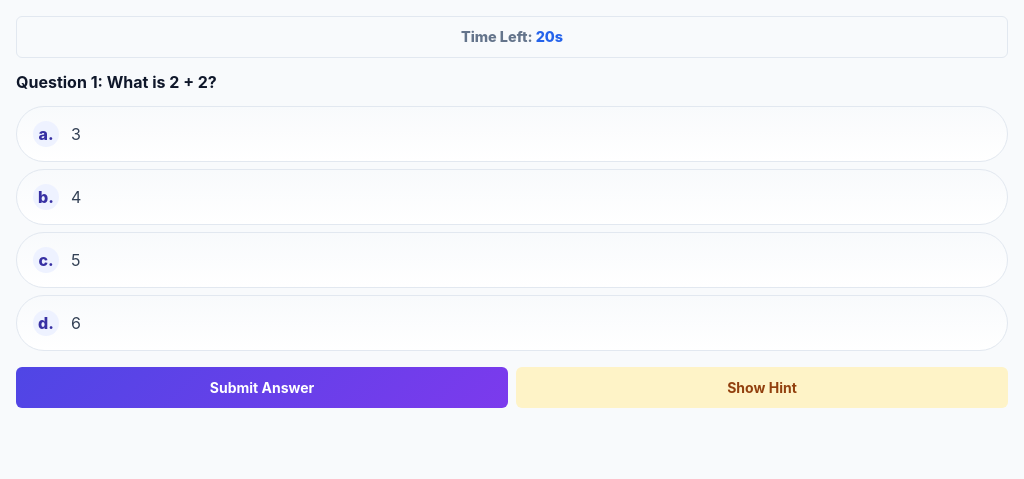
MCQCard › Hint toggle › shows hint text after clicking Show Hint
Click the button "Show Hint" at (762, 387), box [516, 367, 1008, 408]
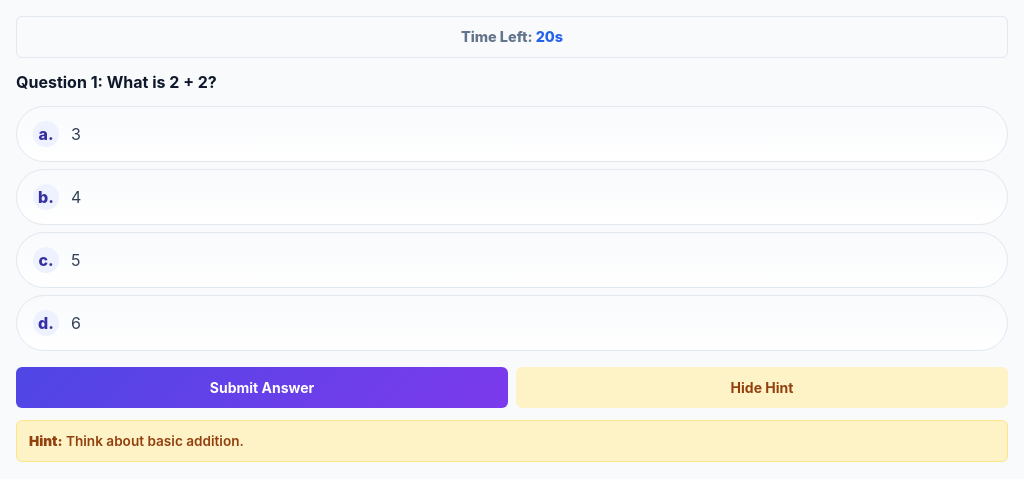
Expected: the text "Hint: Think about basic addition." is shown, [16, 420, 1008, 462]
